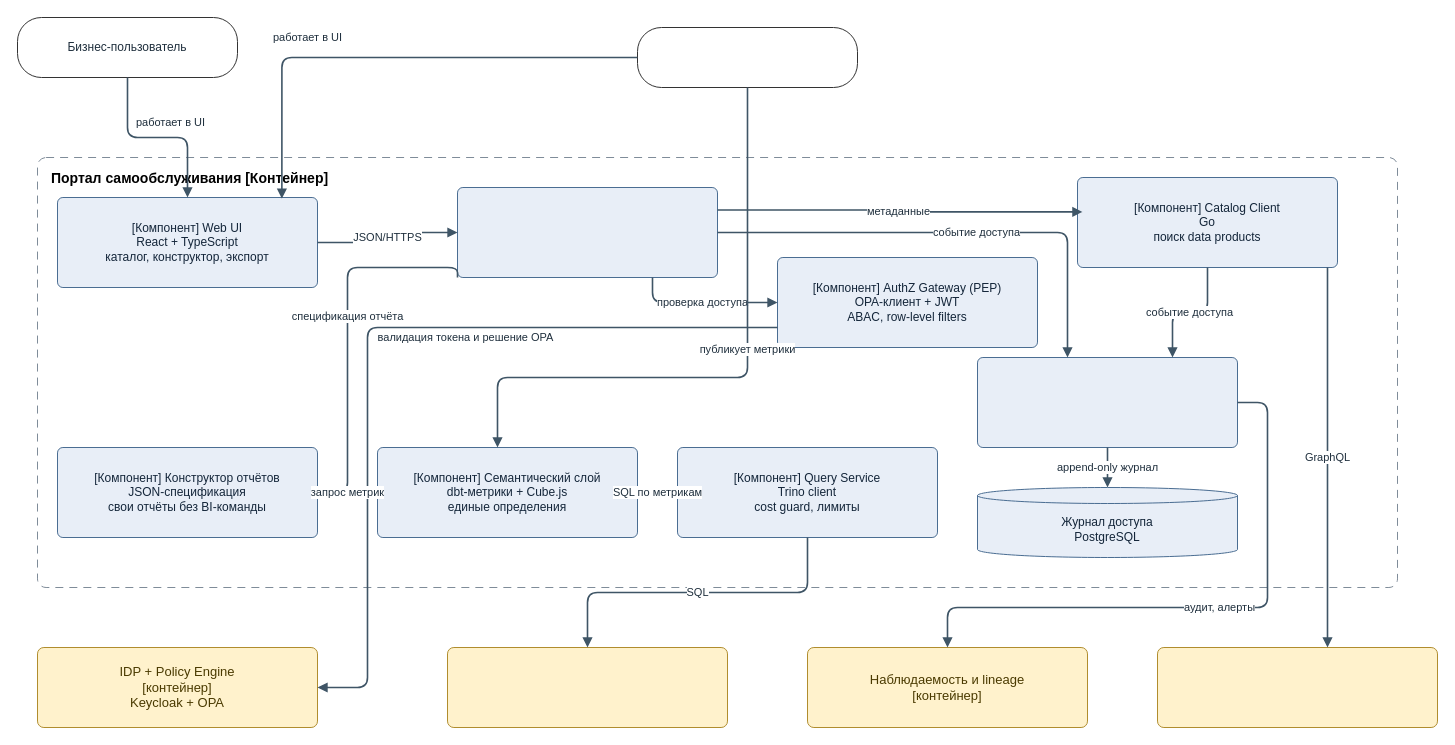
The diagram is 1455 pixels wide and 745 high, and some of its shapes have lost their labels. The shapes that lost their labels are listed below. From the top down, each one's centre as x and y in pixels, then its label:
At (x=747, y=57): "BI-аналитик".
At (x=587, y=232): "[Компонент] BFF / API Gateway Go агрегация, rate limit, аудит".
At (x=1107, y=402): "[Компонент] Audit & Consent Go журнал доступа".
At (x=587, y=687): "Data Platform (lakehouse) [контейнер] Trino / Iceberg".
At (x=1297, y=687): "Каталог данных и схем [контейнер] DataHub".
